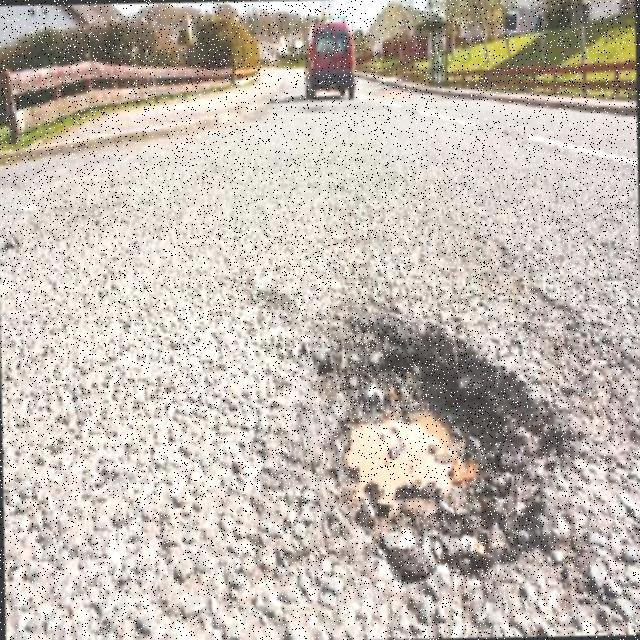Pothole: (317, 318, 563, 583)
